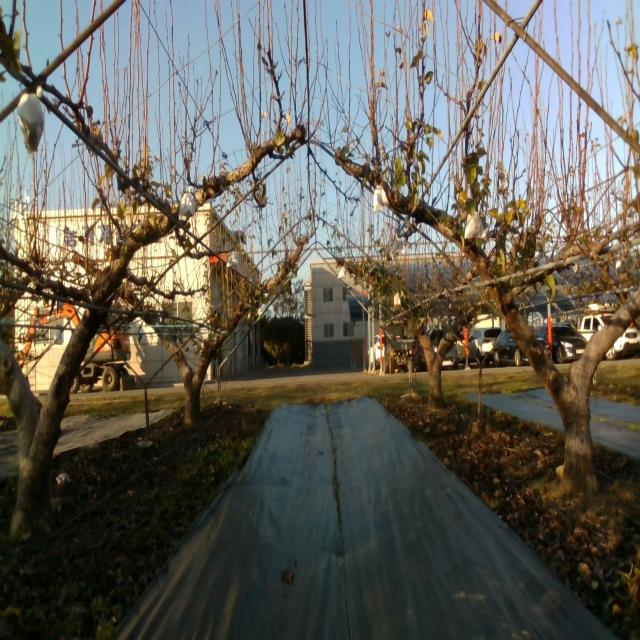pearbags: (15, 83, 47, 164), (178, 186, 196, 222), (464, 211, 486, 240), (373, 185, 390, 213), (226, 250, 241, 271), (391, 238, 406, 257)
